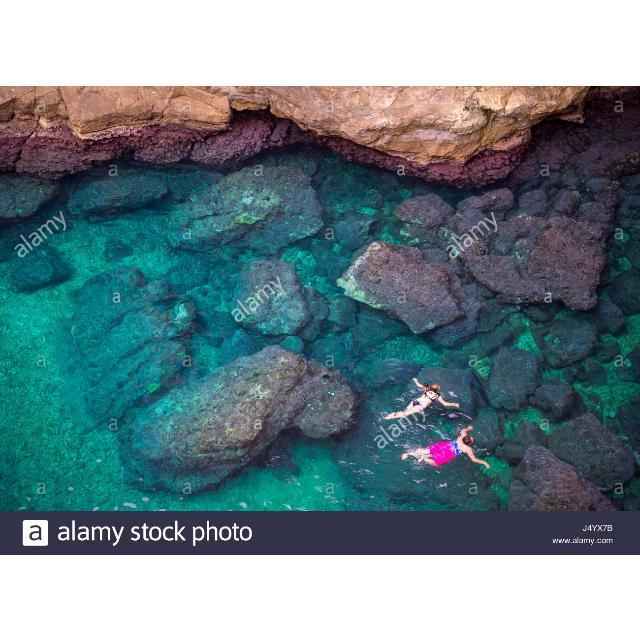human: (401, 425, 494, 469), (384, 378, 457, 422)
